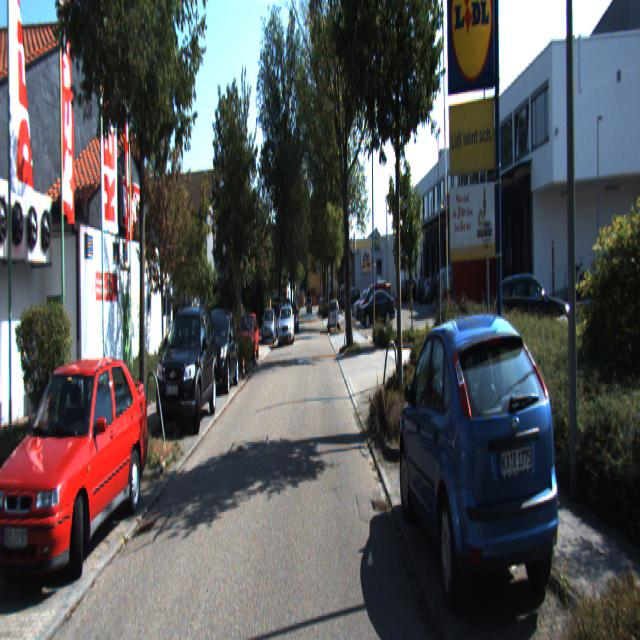Car: (400, 297, 573, 631), (0, 348, 149, 587), (156, 306, 219, 442), (198, 306, 240, 395), (438, 262, 474, 306), (359, 288, 396, 325), (235, 312, 260, 366), (277, 304, 295, 346), (328, 297, 340, 333)
